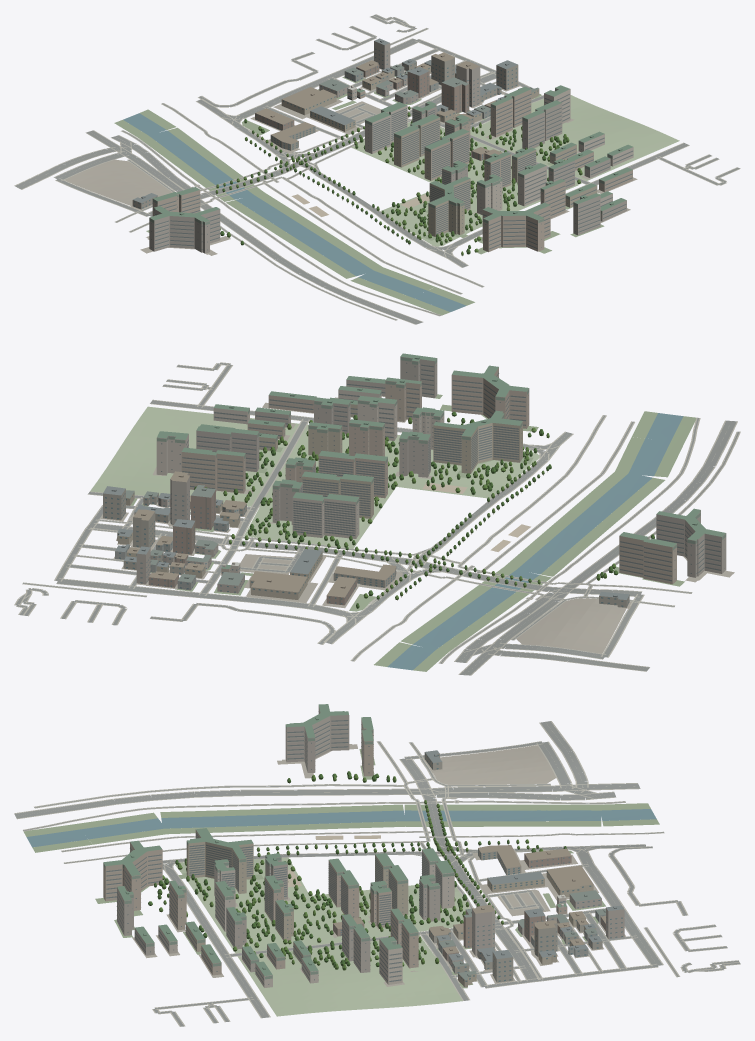
3 views of the same model, one above another, from view 1: azimuth 30°, elevation 25°; view 2: azimuth 150°, elevation 25°; view 3: azimuth 270°, elevation 25° (orthographic). The views are drawn at different scales.
Visible parts, largest first — view 1: context-osm-buildings, context-building-plinths, context-osm-roads, context-river, context-osm-sidewalks, context-villa-infill; view 2: context-osm-buildings, context-building-plinths, context-osm-roads, context-osm-sidewalks, context-river, context-villa-infill; view 3: context-osm-buildings, context-building-plinths, context-osm-roads, context-osm-sidewalks, context-river, context-villa-infill.
Part boxes in pixels (x1,y1,x2,y2): context-osm-buildings: [132, 38, 633, 253]; context-building-plinths: [64, 68, 679, 255]; context-osm-roads: [15, 14, 739, 324]; context-river: [114, 109, 474, 315]; context-osm-sidewalks: [14, 14, 740, 324]; context-villa-infill: [215, 85, 582, 255]; context-osm-buildings: [103, 353, 726, 607]; context-building-plinths: [90, 394, 734, 653]; context-osm-roads: [15, 363, 739, 675]; context-osm-sidewalks: [14, 362, 740, 675]; context-river: [374, 411, 695, 671]; context-villa-infill: [194, 411, 654, 608]; context-osm-buildings: [103, 704, 624, 987]; context-building-plinths: [95, 744, 625, 1016]; context-osm-roads: [14, 721, 740, 1026]; context-osm-sidewalks: [14, 721, 740, 1026]; context-river: [24, 803, 659, 852]; context-villa-infill: [148, 771, 567, 970].
Size of the model in its own units: 841 by 64.01 by 841.
